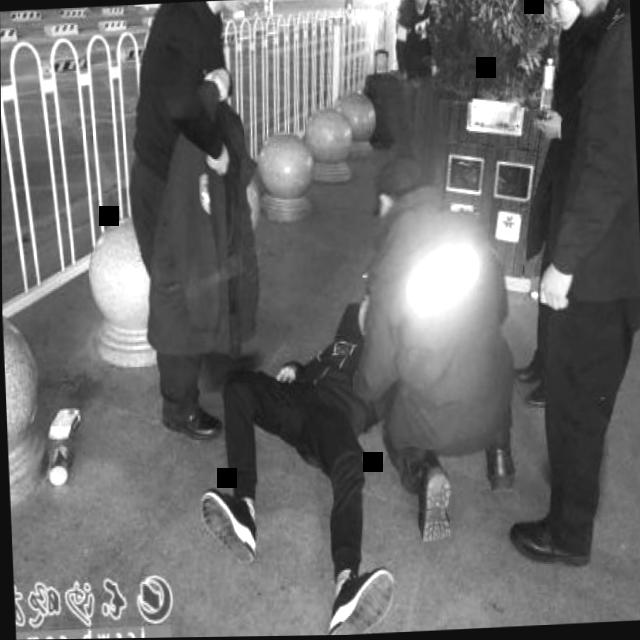Fall-Detected: (177, 272, 423, 635)
